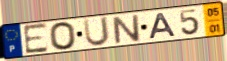5: (179, 8, 201, 37)
A: (148, 12, 178, 41)
E: (22, 22, 50, 56)
N: (110, 14, 143, 46)
O: (48, 20, 78, 51)
U: (82, 15, 111, 48)
